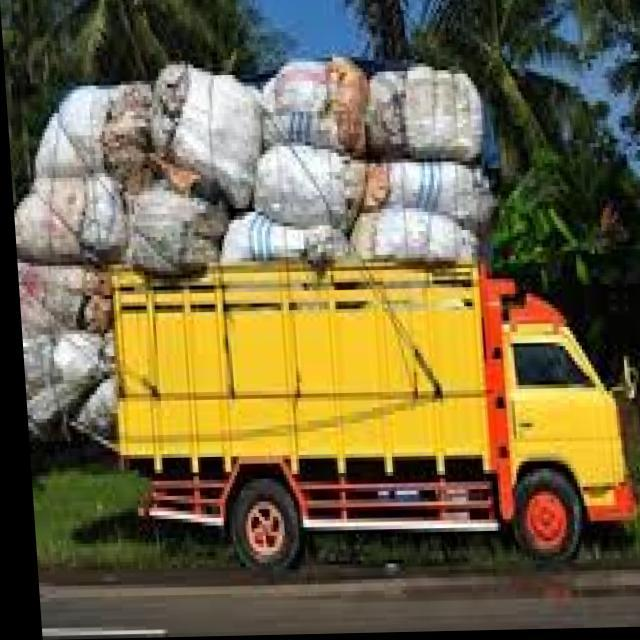uncovered: (4, 62, 632, 582)
